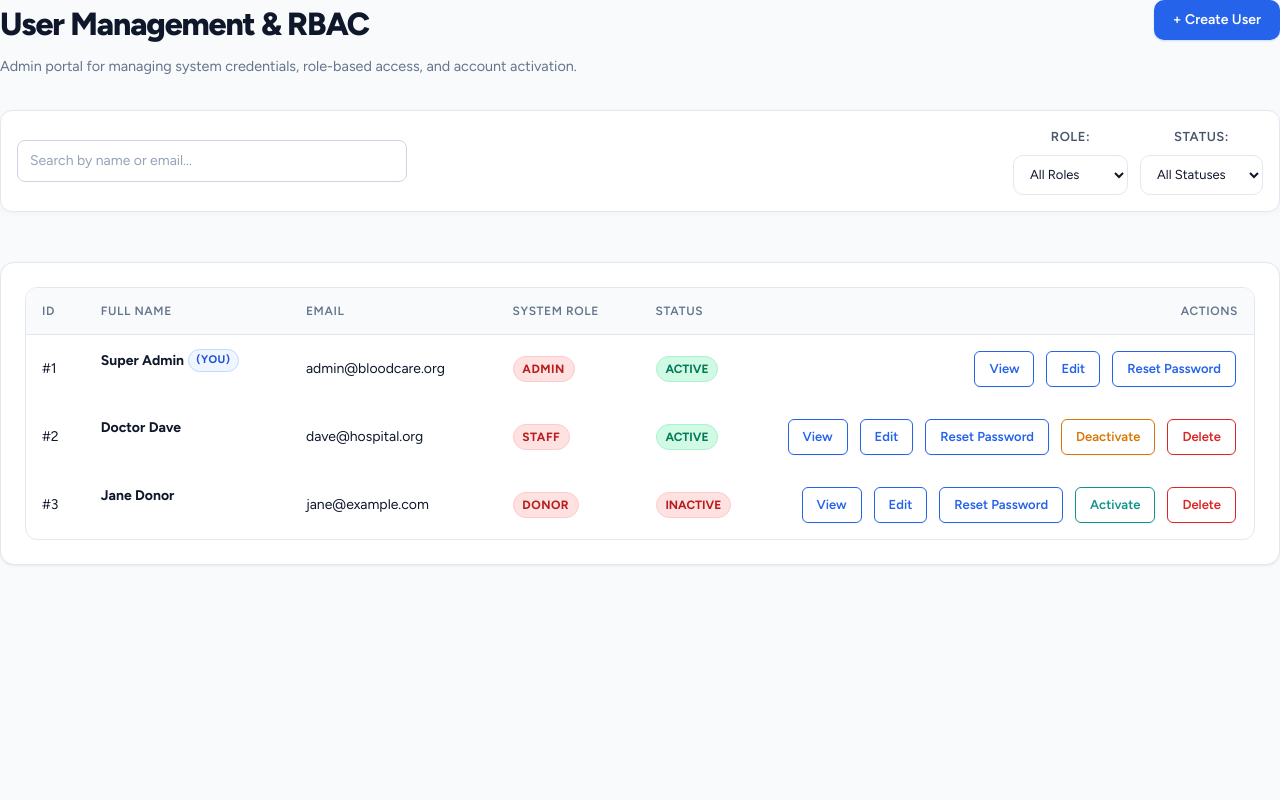
Test: Users Page Component › opens user detail view modal
Click the button with test id "btn-view-user-2" at (818, 437), box [788,419,848,455]
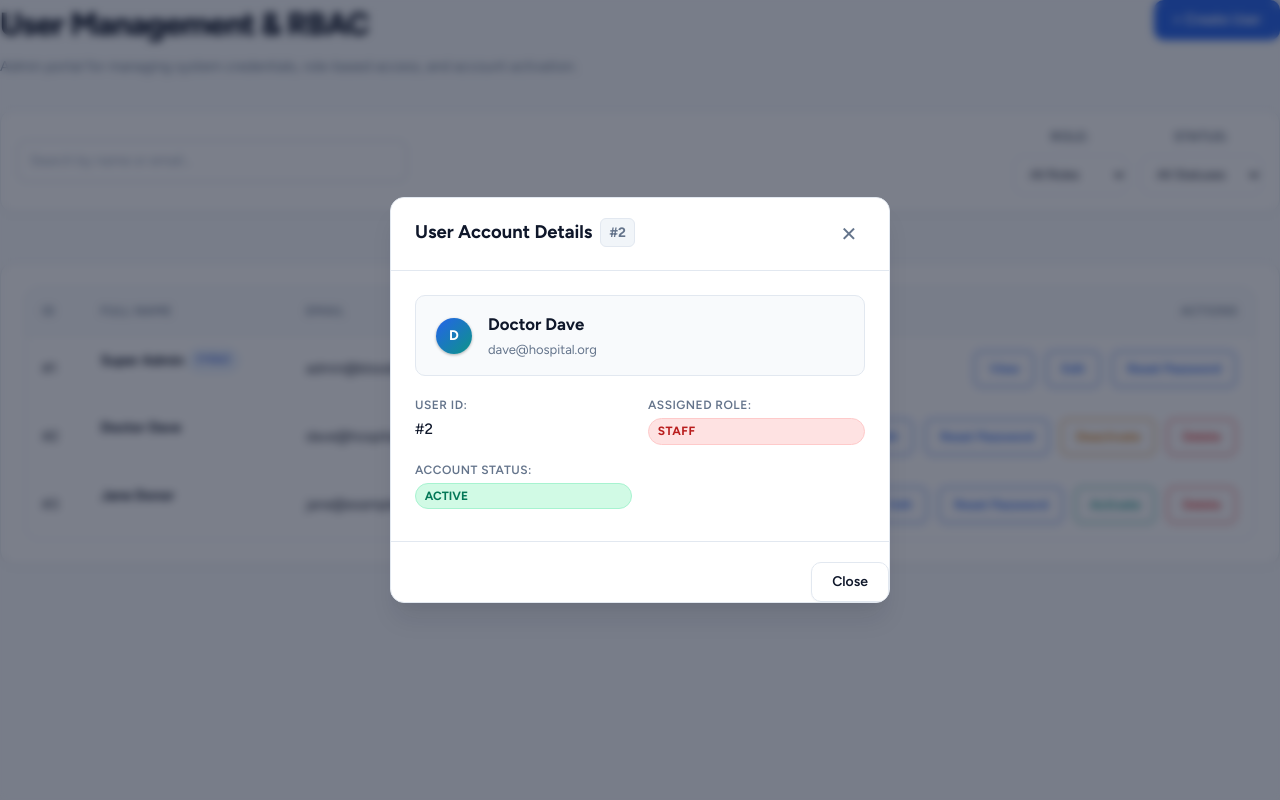
expect the dialog with test id "user-detail-modal" is shown: met, box [390,197,890,603]
expect the heading with test id "detail-user-name" reads "Doctor Dave": met, box [488,314,584,334]
expect the text with test id "detail-user-email" reads "dave@hospital.org": met, box [488,342,597,357]
